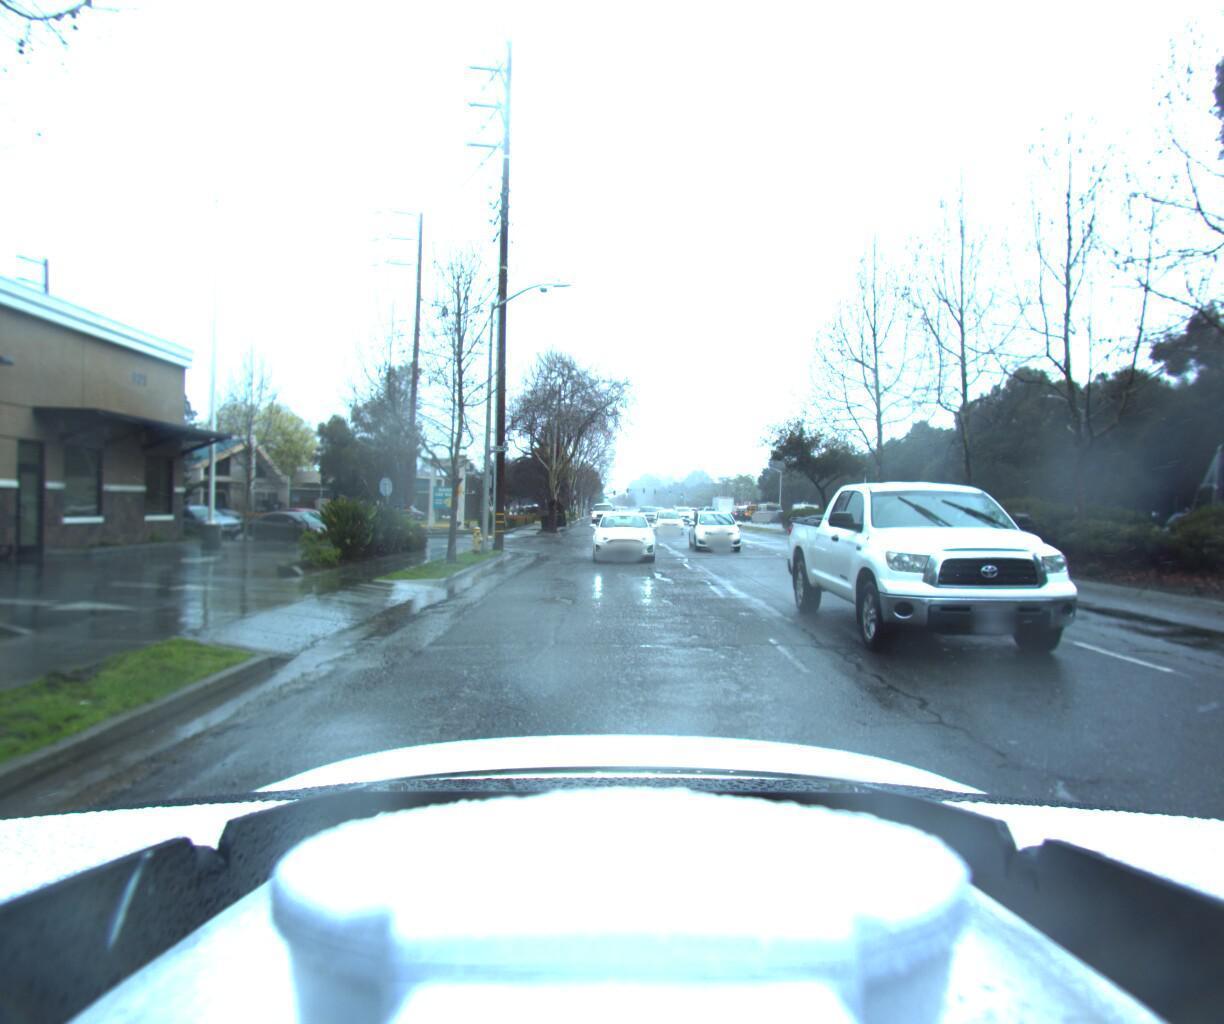car: (791, 459, 1182, 698), (238, 507, 347, 544), (143, 502, 245, 540), (589, 507, 656, 564), (685, 505, 748, 553), (653, 506, 687, 533), (589, 504, 613, 525), (671, 505, 695, 523), (635, 502, 658, 521)
truck: (1121, 315, 1224, 664)
